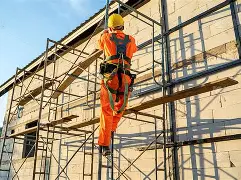safety belt: (101, 35, 137, 96)
